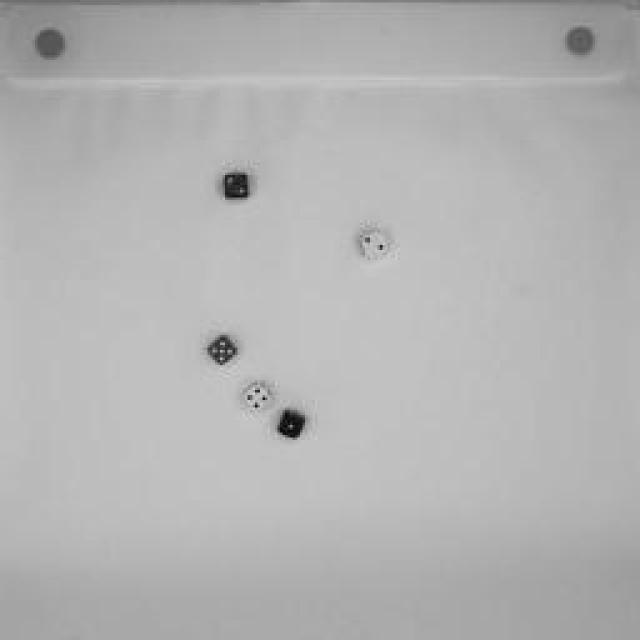dice_1: (274, 409, 308, 446)
dice_2: (215, 165, 260, 210), (355, 225, 395, 265)
dice_4: (236, 379, 276, 416)
dice_5: (203, 331, 245, 374)
